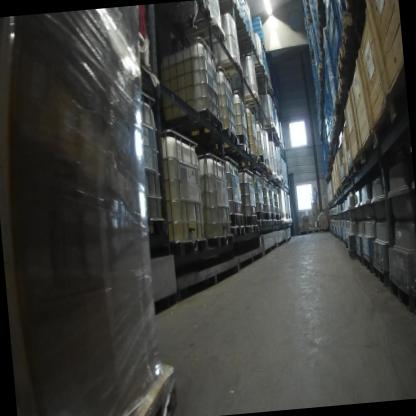pallet: (106, 360, 179, 416), (161, 108, 224, 148), (183, 16, 227, 50), (387, 275, 412, 311), (339, 12, 360, 54), (335, 45, 358, 79), (219, 57, 243, 78), (219, 0, 242, 19), (336, 75, 353, 100), (372, 264, 389, 288), (224, 143, 251, 157), (239, 150, 261, 167), (223, 127, 240, 146), (242, 93, 261, 109), (333, 95, 348, 115), (238, 39, 257, 54), (363, 256, 376, 277), (344, 0, 362, 12), (236, 28, 251, 41), (318, 12, 326, 34), (356, 248, 365, 267), (235, 15, 247, 28), (411, 294, 416, 325), (317, 31, 325, 50), (333, 111, 343, 126), (255, 71, 269, 81), (332, 125, 342, 137), (306, 228, 322, 235), (319, 50, 326, 66), (262, 124, 276, 132), (254, 63, 266, 72), (340, 177, 347, 192), (307, 14, 313, 31), (348, 247, 356, 259), (317, 0, 324, 13), (318, 63, 324, 78), (330, 133, 338, 144), (261, 169, 273, 176), (348, 164, 354, 178), (260, 162, 268, 171), (267, 87, 274, 95), (344, 239, 350, 248), (261, 41, 266, 50), (329, 146, 333, 153), (306, 0, 309, 8), (274, 131, 278, 136)
small_load_carrier: (329, 0, 339, 23), (333, 22, 342, 43), (323, 102, 327, 118), (324, 113, 328, 128), (326, 122, 330, 137), (327, 134, 332, 145)
